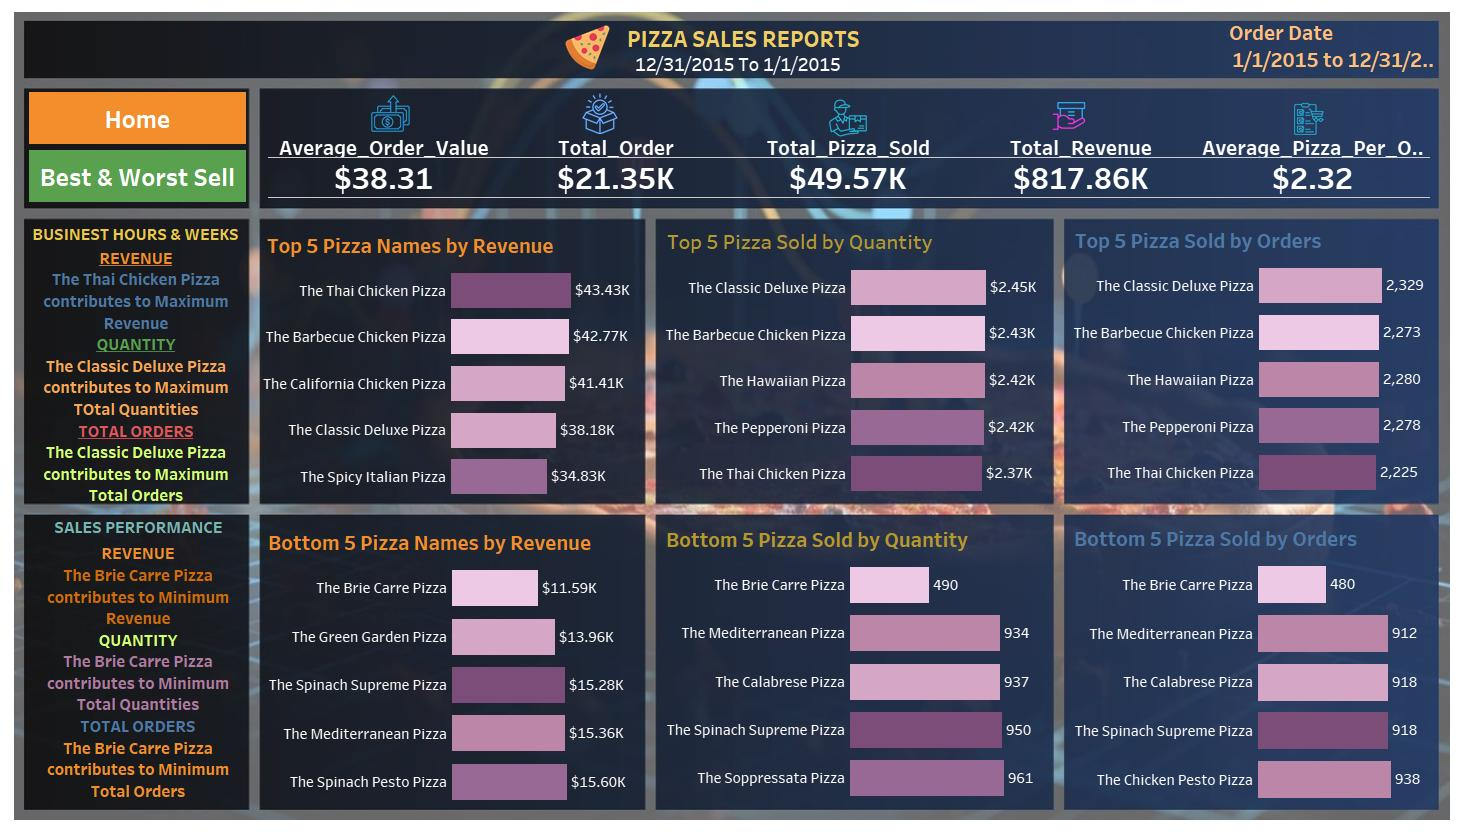

Layout of this report page (visuals, bound fields, positions):
{"tool":"tableau","page":{"name":"Best & Worst Sellers","canvas":[1464,832],"ordinal":0},"visuals":[{"type":"image","param":"C:/Users/Lost Ever/Downloads/tableau project files and resources/Tableau & SQL P","box":[8,8,1448,816]},{"type":"filter","title":"KPI","param":"[federated.08mj7460sib98g1ell9rb112kt8u].[none:order_date:qk]","box":[1229,17,207,60]},{"type":"text","box":[623,23,241,30]},{"type":"image","param":"C:/Users/Lost Ever/Downloads/tableau project files and resources/Tableau & SQL P","box":[564,24,79,46]},{"type":"worksheet","title":"Years","mark":"Automatic","box":[615,49,247,30]},{"type":"image","param":"C:/Users/Lost Ever/Downloads/tableau project files and resources/Tableau & SQL P","box":[368,91,46,44]},{"type":"dashboard-object","box":[29,92,217,52]},{"type":"image","param":"C:/Users/Lost Ever/Downloads/tableau project files and resources/Tableau & SQL P","box":[579,93,51,41]},{"type":"image","param":"C:/Users/Lost Ever/Downloads/tableau project files and resources/Tableau & SQL P","box":[1050,97,47,37]},{"type":"image","param":"C:/Users/Lost Ever/Downloads/tableau project files and resources/Tableau & SQL P","box":[828,98,61,39]},{"type":"image","param":"C:/Users/Lost Ever/Downloads/tableau project files and resources/Tableau & SQL P","box":[1292,102,63,33]},{"type":"worksheet","title":"KPI","mark":"Automatic","box":[268,137,1162,61]},{"type":"dashboard-object","box":[29,150,217,52]},{"type":"text","box":[28,219,215,30]},{"type":"worksheet","title":"Top 5 Pizza Sold by Orders","mark":"Bar","rows":["pizza_name"],"cols":["Calculation_68116976624898050"],"box":[1071,220,363,277]},{"type":"worksheet","title":"Top 5 Pizza Sold by Quantity","mark":"Bar","rows":["pizza_name"],"cols":["Calculation_68116976624730113"],"box":[663,221,385,277]},{"type":"worksheet","title":"Top 5 Pizza Names by Revenue ","mark":"Automatic","rows":["pizza_name"],"cols":["Calculation_68116976624640000"],"box":[263,225,377,275]},{"type":"text","box":[27,246,218,265]},{"type":"text","box":[31,512,215,30]},{"type":"worksheet","title":"Bottom 5 Pizza Sold by Orders","mark":"Bar","rows":["pizza_name"],"cols":["Calculation_68116976624898050"],"box":[1070,518,362,286]},{"type":"worksheet","title":"Bottom 5 Pizza Sold by Quantity","mark":"Automatic","rows":["pizza_name"],"cols":["Calculation_68116976624730113"],"box":[662,519,384,283]},{"type":"worksheet","title":"Bottom 5 Pizza Names by Revenue","mark":"Automatic","rows":["pizza_name"],"cols":["Calculation_68116976624640000"],"box":[264,522,372,284]},{"type":"text","box":[29,544,218,260]}]}

Visuals, with their boxes in screenshot pixels (x1, y1, x2, y2), scaled from the page's 1464x832 canvas onto the 1464x832 screenshot:
image: 8, 8, 1456, 824
"KPI" filter: 1229, 17, 1436, 77
text: 623, 23, 864, 53
image: 564, 24, 643, 70
"Years" worksheet: 615, 49, 862, 79
image: 368, 91, 414, 135
dashboard-object: 29, 92, 246, 144
image: 579, 93, 630, 134
image: 1050, 97, 1097, 134
image: 828, 98, 889, 137
image: 1292, 102, 1355, 135
"KPI" worksheet: 268, 137, 1430, 198
dashboard-object: 29, 150, 246, 202
text: 28, 219, 243, 249
"Top 5 Pizza Sold by Orders" worksheet (Bar marks): 1071, 220, 1434, 497
"Top 5 Pizza Sold by Quantity" worksheet (Bar marks): 663, 221, 1048, 498
"Top 5 Pizza Names by Revenue " worksheet: 263, 225, 640, 500
text: 27, 246, 245, 511
text: 31, 512, 246, 542
"Bottom 5 Pizza Sold by Orders" worksheet (Bar marks): 1070, 518, 1432, 804
"Bottom 5 Pizza Sold by Quantity" worksheet: 662, 519, 1046, 802
"Bottom 5 Pizza Names by Revenue" worksheet: 264, 522, 636, 806
text: 29, 544, 247, 804
